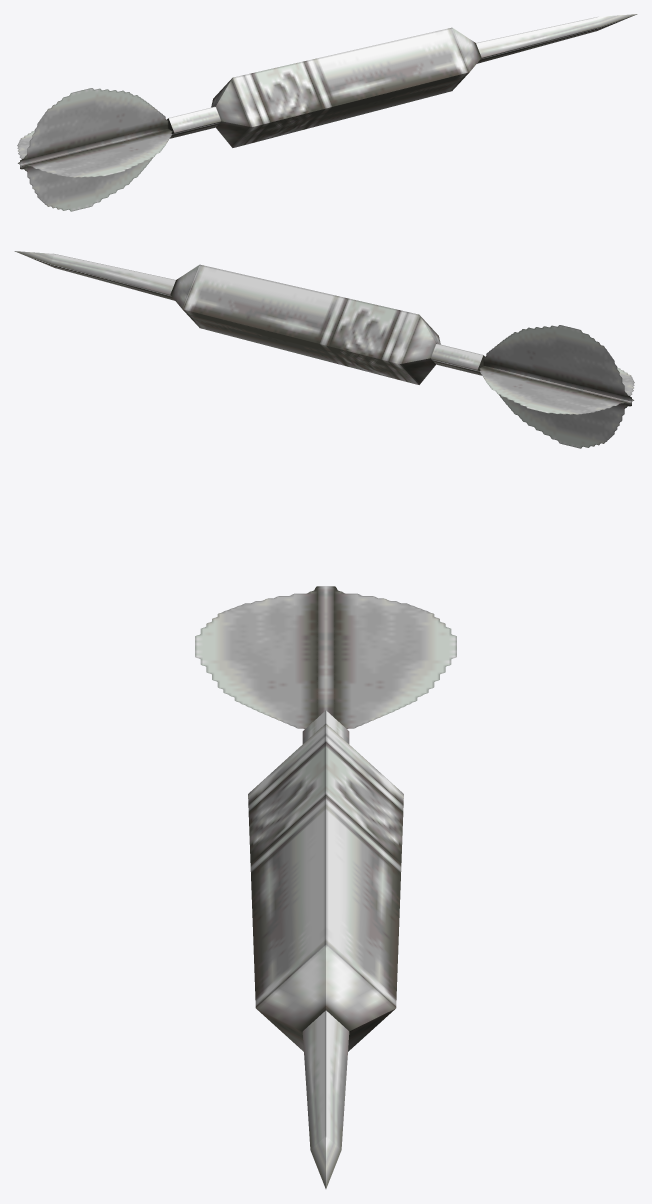
Rendered from darts2.glb.
The picture shows the model from 3 angles, top to bottom: view 1: azimuth 30°, elevation 25°; view 2: azimuth 150°, elevation 25°; view 3: azimuth 270°, elevation 25°; orthographic projection. The views are drawn at different scales.
Visible parts, largest first — view 1: node_id3; view 2: node_id3; view 3: node_id3.
Part boxes in pixels (<box>): node_id3: <box>17,14,637,211</box>; node_id3: <box>14,251,634,448</box>; node_id3: <box>195,586,456,1188</box>.
Size of the model in its own units: 2.47 by 0.512 by 0.512.
Materials: 1 (1 with a texture image).
